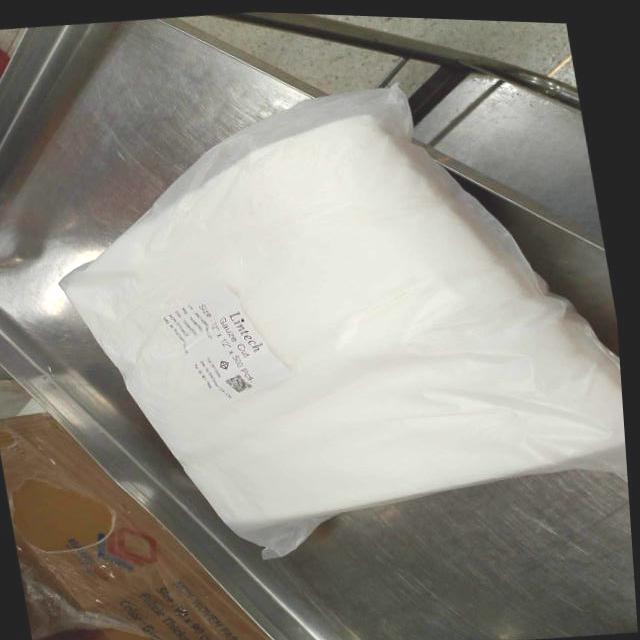Infectious: (57, 83, 626, 561)
